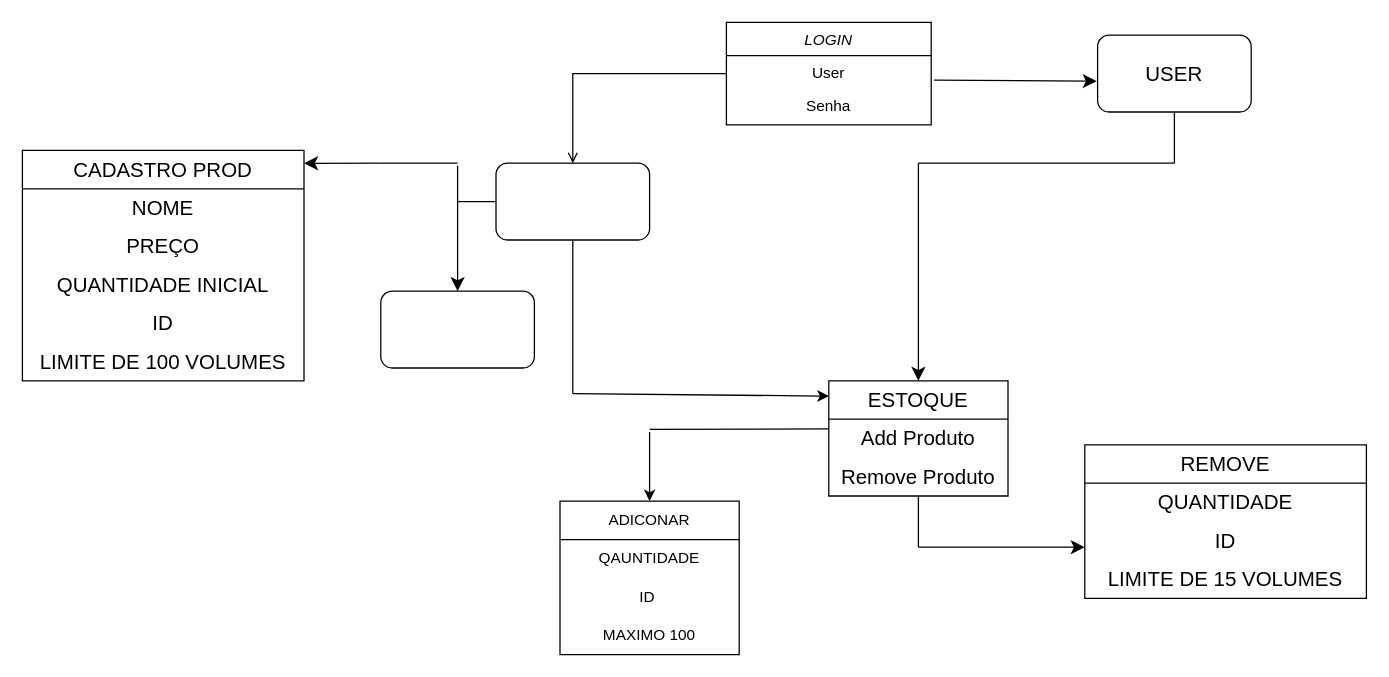
Image size: 1389x677. Some labels were removed from this diagram. The centre of each missing label's shape, as x and y in pixels:
"ADM_USER" belongs at point 572,201.
"Remove Cadastro" belongs at point 457,329.
